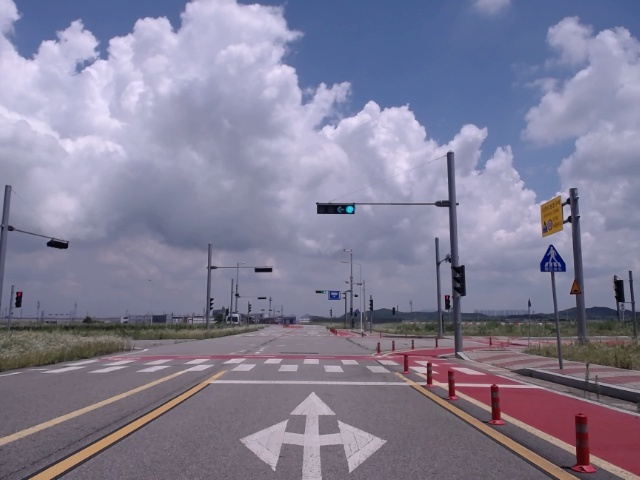all_green_4: (315, 204, 353, 214)
